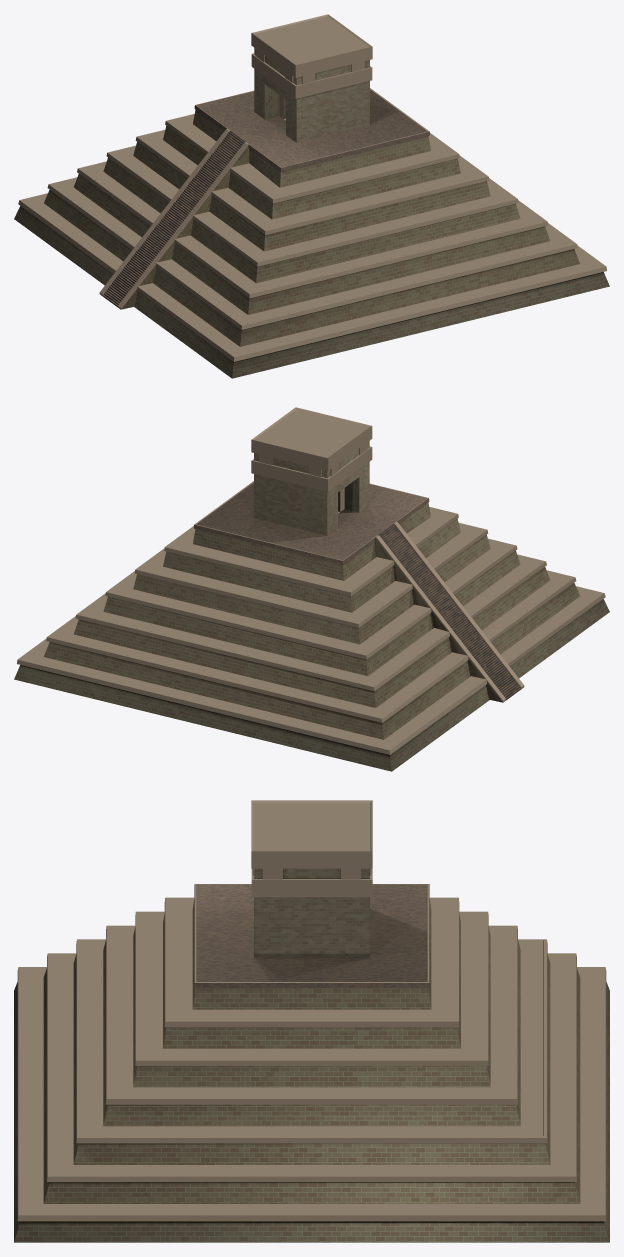
The model's file is mayan_pyramid.glb.
The picture shows the model from 3 angles, top to bottom: view 1: azimuth 30°, elevation 25°; view 2: azimuth 150°, elevation 25°; view 3: azimuth 270°, elevation 25°; orthographic projection. The views are drawn at different scales.
Visible parts, largest first — view 1: Pyramid.001_11, Bricks_12, Top Tile_15, Chamber_14, Stairs_13; view 2: Pyramid.001_11, Bricks_12, Top Tile_15, Chamber_14, Stairs_13; view 3: Pyramid.001_11, Bricks_12, Top Tile_15, Chamber_14.
Part boxes in pixels (<box>): Pyramid.001_11: <box>18,14,606,361</box>; Bricks_12: <box>14,109,609,378</box>; Top Tile_15: <box>194,89,429,171</box>; Chamber_14: <box>254,48,369,142</box>; Stairs_13: <box>102,130,245,307</box>; Pyramid.001_11: <box>17,407,605,754</box>; Bricks_12: <box>14,502,609,771</box>; Top Tile_15: <box>194,482,429,564</box>; Chamber_14: <box>254,441,369,535</box>; Stairs_13: <box>378,523,521,700</box>; Pyramid.001_11: <box>17,800,606,1221</box>; Bricks_12: <box>14,899,609,1242</box>; Top Tile_15: <box>194,884,429,988</box>; Chamber_14: <box>254,868,369,957</box>.
Size of the model in its own units: 21.3 by 11.09 by 20.6.
5 materials, 4 textured.
